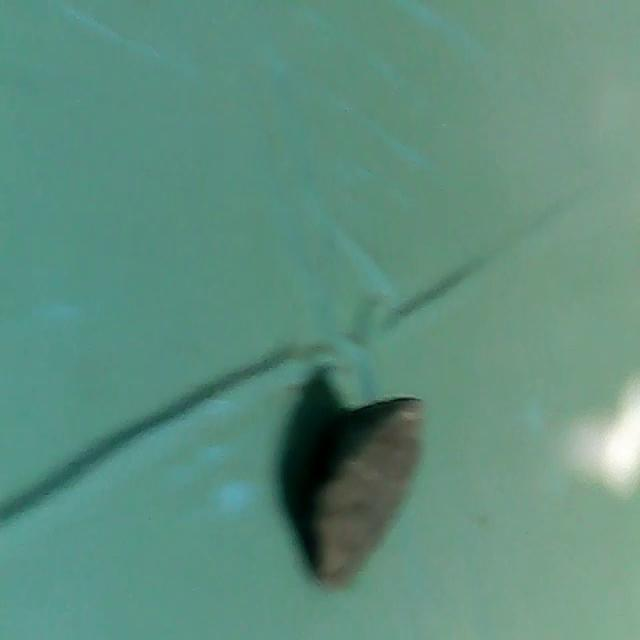rock: (287, 380, 429, 594)
